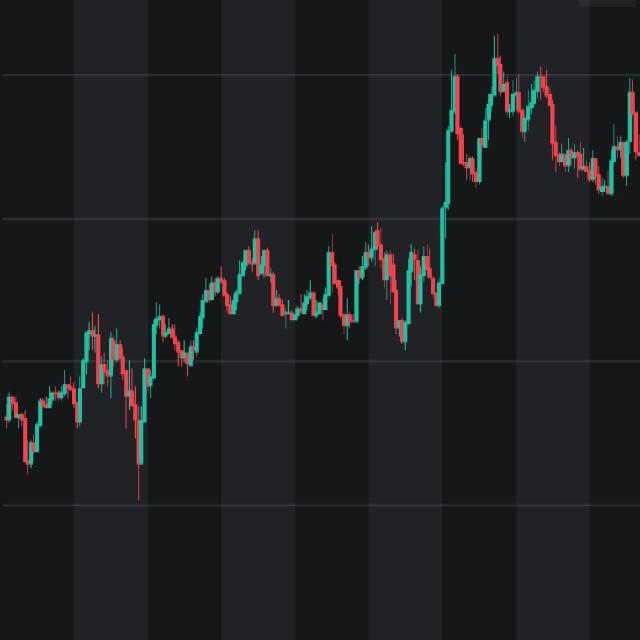Resistance-Emerging: (438, 38, 563, 188)
Resistance-breakout: (314, 50, 476, 357)
